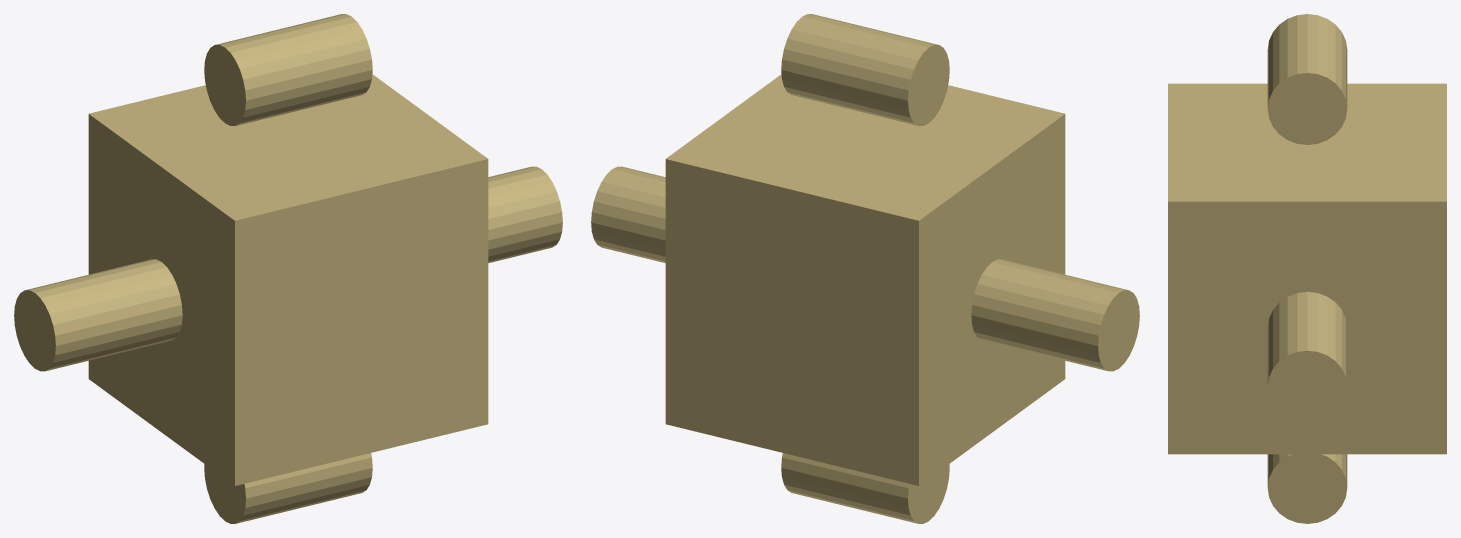
The picture shows the model from 3 angles, left to right: view 1: azimuth 30°, elevation 25°; view 2: azimuth 150°, elevation 25°; view 3: azimuth 270°, elevation 25°; orthographic projection. The views are drawn at different scales.
Parts seen in each view (by area): view 1: world; view 2: world; view 3: world.
Part boxes in pixels (x1,y1,x2,y2): world: (14,14,562,523); world: (591,14,1139,523); world: (1168,14,1446,523).
Bounding box in the file's own units: 1.12 × 1 × 0.56.
